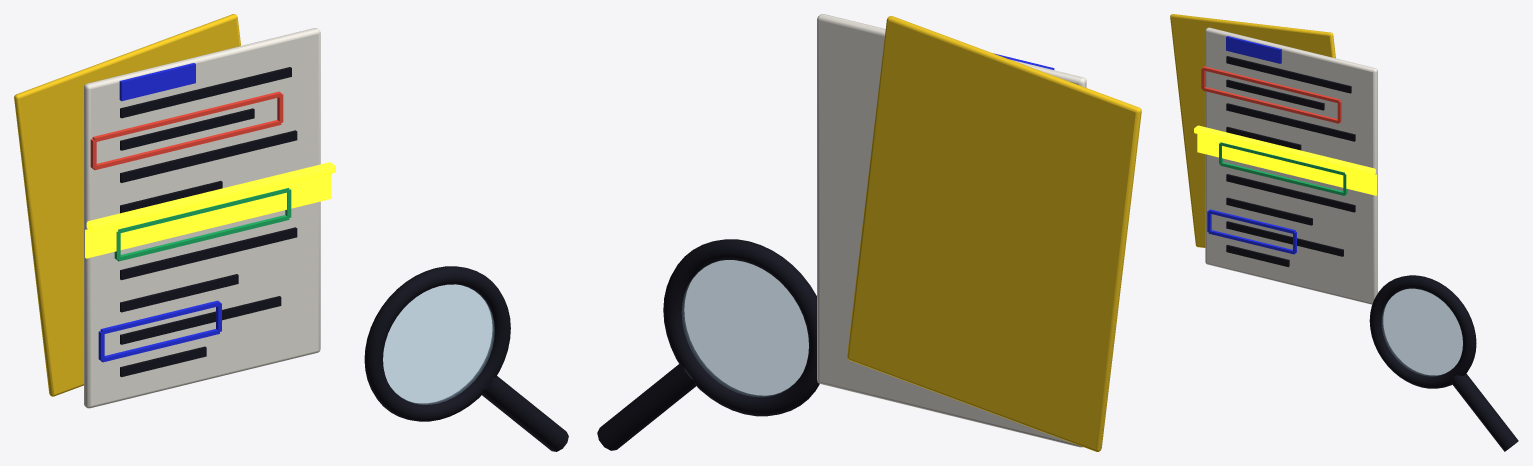
Rendered from ocr.glb.
The picture shows the model from 3 angles, left to right: view 1: azimuth 30°, elevation 25°; view 2: azimuth 150°, elevation 25°; view 3: azimuth 330°, elevation 25°; orthographic projection. The views are drawn at different scales.
Visible parts, largest first — view 1: doc, paper2, bob_lens, text, slide_scan, pulse_boxA, pulse_boxB, pulse_boxC; view 2: paper2, bob_lens, doc; view 3: doc, bob_lens, text, paper2, slide_scan, pulse_boxA, pulse_boxB, pulse_boxC.
Part boxes in pixels (x1,y1,x2,y2): doc: [84, 28, 320, 408]; paper2: [14, 14, 240, 396]; bob_lens: [364, 266, 568, 451]; text: [119, 63, 297, 377]; slide_scan: [85, 162, 335, 258]; pulse_boxA: [90, 91, 283, 170]; pulse_boxB: [114, 188, 291, 261]; pulse_boxC: [98, 300, 221, 362]; paper2: [847, 16, 1141, 451]; bob_lens: [597, 239, 819, 450]; doc: [817, 14, 1086, 447]; doc: [1205, 27, 1377, 304]; bob_lens: [1369, 275, 1518, 451]; text: [1226, 36, 1355, 267]; paper2: [1170, 14, 1335, 247]; slide_scan: [1194, 125, 1376, 195]; pulse_boxA: [1201, 66, 1341, 123]; pulse_boxB: [1219, 142, 1347, 195]; pulse_boxC: [1207, 209, 1296, 254].
Size of the model in its own units: 9.64 by 8.55 by 1.5.
